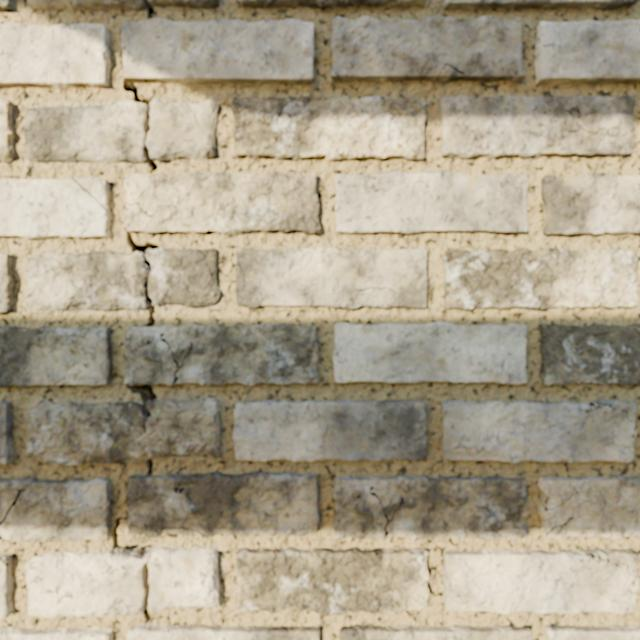broken_brick: (25, 546, 220, 618), (27, 399, 220, 465), (24, 100, 147, 162), (26, 251, 149, 311), (146, 97, 218, 161), (146, 248, 221, 307), (27, 0, 145, 11), (150, 0, 218, 8)
crack: (121, 0, 320, 418), (0, 458, 320, 555), (127, 562, 320, 639), (235, 547, 429, 616), (330, 15, 525, 83), (442, 548, 639, 615), (332, 475, 529, 540), (230, 96, 425, 161), (438, 95, 635, 159), (441, 399, 636, 463), (334, 170, 528, 234), (333, 322, 526, 384), (235, 247, 427, 309), (443, 248, 638, 309), (233, 400, 427, 461), (0, 22, 110, 89), (0, 326, 112, 387), (0, 177, 110, 239), (535, 20, 639, 83), (537, 476, 639, 540), (538, 323, 639, 385), (541, 173, 639, 235), (339, 624, 532, 639), (442, 0, 637, 10), (237, 0, 427, 8), (0, 626, 112, 639), (544, 625, 639, 639), (0, 99, 14, 162), (0, 402, 14, 463), (0, 554, 13, 619), (0, 254, 14, 314), (65, 289, 78, 303), (0, 0, 13, 11), (79, 276, 88, 287), (142, 425, 146, 433), (182, 139, 195, 141)
